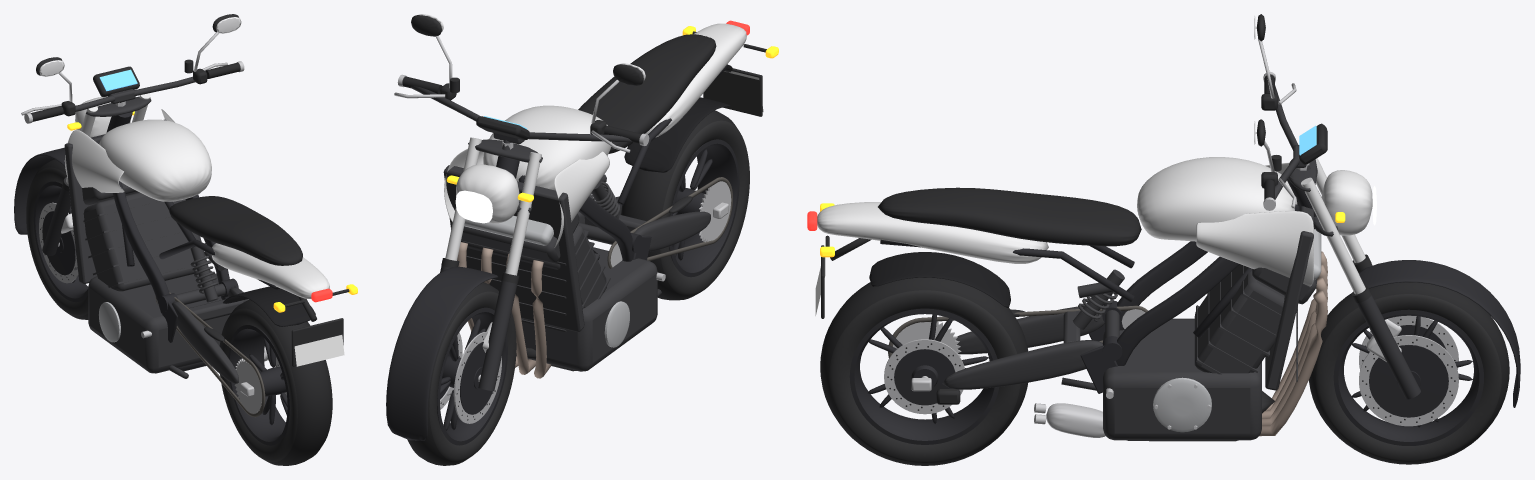
3 views of the same model, side by side, from view 1: azimuth 30°, elevation 25°; view 2: azimuth 150°, elevation 25°; view 3: azimuth 270°, elevation 25° (orthographic). The views are drawn at different scales.
Parts seen in each view (by area): view 1: body, wheel_rear, steer, swingarm, wheel_front, fork_lower; view 2: body, wheel_rear, steer, wheel_front, fork_lower, swingarm; view 3: body, wheel_rear, wheel_front, swingarm, steer, fork_lower.
Part boxes in pixels (x1=…): body: x1=64, y1=109, x2=357, y2=378; wheel_rear: x1=219, y1=299, x2=332, y2=465; steer: x1=21, y1=14, x2=244, y2=184; swingarm: x1=155, y1=283, x2=315, y2=417; wheel_front: x1=26, y1=159, x2=88, y2=319; fork_lower: x1=14, y1=147, x2=73, y2=255; body: x1=443, y1=20, x2=778, y2=378; wheel_rear: x1=621, y1=110, x2=749, y2=300; steer: x1=394, y1=14, x2=649, y2=275; wheel_front: x1=407, y1=282, x2=516, y2=465; fork_lower: x1=386, y1=258, x2=519, y2=440; swingarm: x1=577, y1=97, x2=732, y2=268; body: x1=807, y1=157, x2=1327, y2=441; wheel_rear: x1=820, y1=277, x2=1028, y2=465; wheel_front: x1=1308, y1=282, x2=1509, y2=464; swingarm: x1=869, y1=252, x2=1148, y2=404; steer: x1=1254, y1=14, x2=1376, y2=294; fork_lower: x1=1351, y1=254, x2=1520, y2=407.
Bounding box in the file's own units: 0.9 × 1.29 × 2.12.
